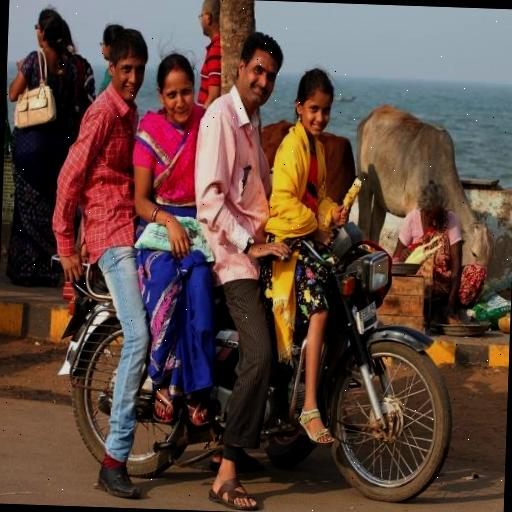no helmet: (218, 22, 284, 126)
triple riding: (63, 10, 465, 497)
